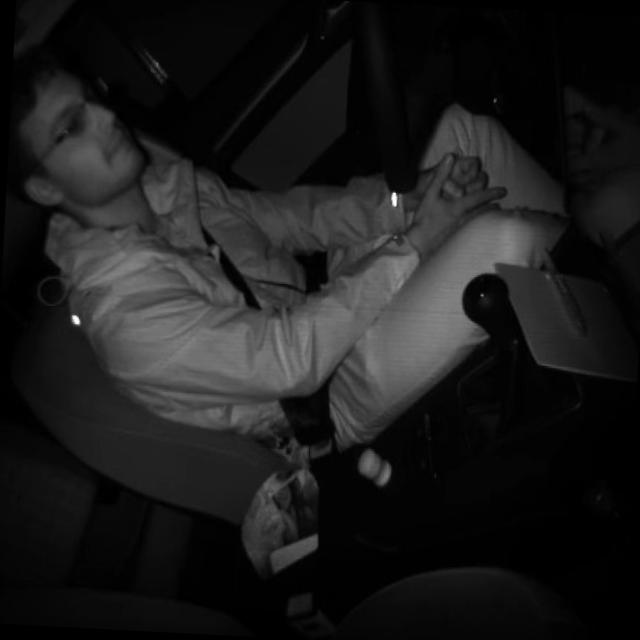pen: (535, 238, 596, 344)
